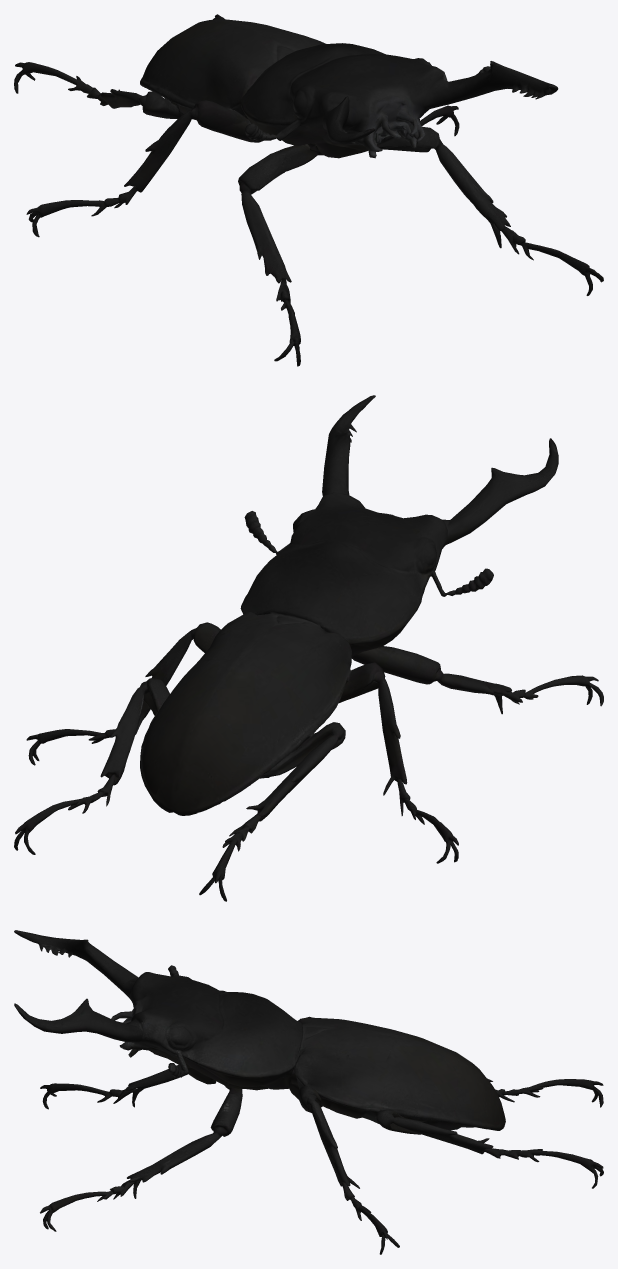
The model's file is giant-fire-beetle.glb.
The picture shows the model from 3 angles, top to bottom: view 1: azimuth 30°, elevation 25°; view 2: azimuth 150°, elevation 25°; view 3: azimuth 270°, elevation 25°; orthographic projection. The views are drawn at different scales.
Size of the model in its own units: 1.36 by 0.7188 by 1.9.
1 material, 1 textured.
